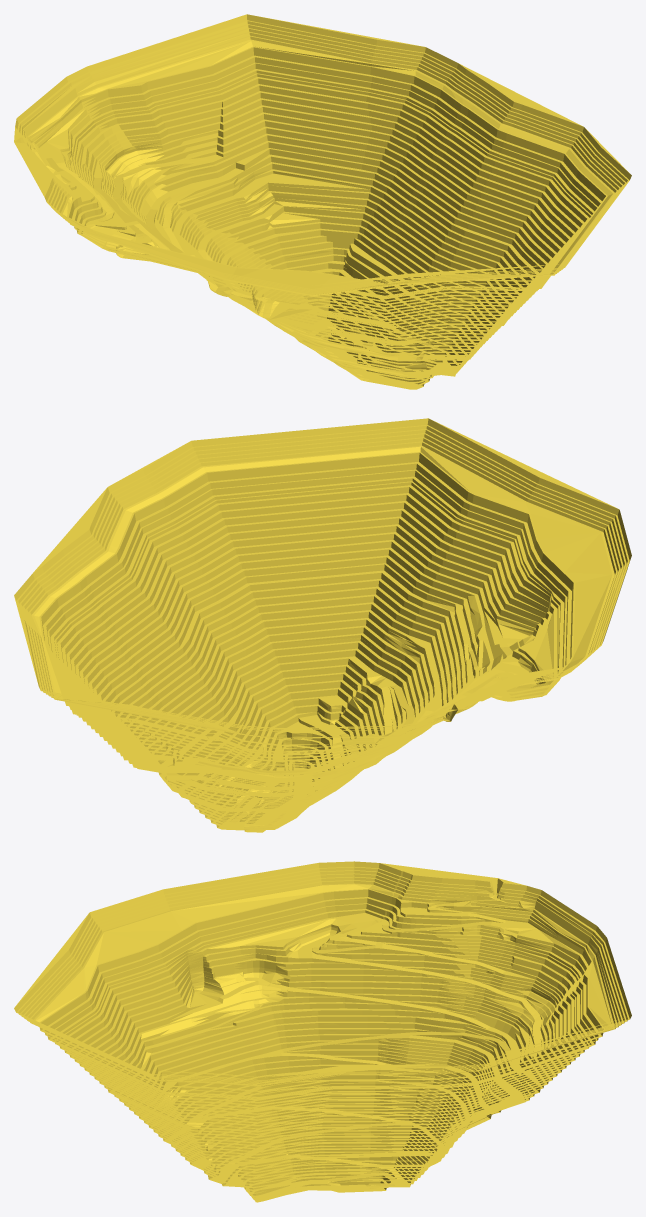
Rendered from cono.glb.
The picture shows the model from 3 angles, top to bottom: view 1: azimuth 30°, elevation 25°; view 2: azimuth 150°, elevation 25°; view 3: azimuth 270°, elevation 25°; orthographic projection. The views are drawn at different scales.
Visible parts, largest first — view 1: mesh; view 2: mesh; view 3: mesh.
Boxes of the visible parts, x1=… form: mesh: x1=14, y1=14, x2=631, y2=389; mesh: x1=14, y1=418, x2=631, y2=832; mesh: x1=14, y1=861, x2=631, y2=1202.
Size of the model in its own units: 3035 by 1305 by 3672.
